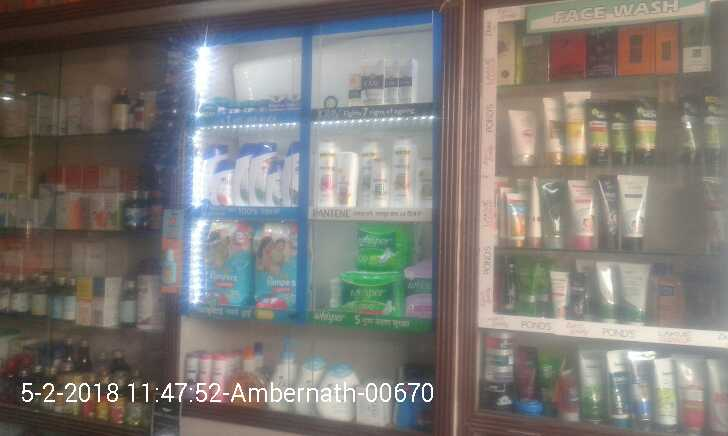beauty: (202, 137, 300, 207), (384, 56, 421, 108), (330, 143, 357, 205), (312, 140, 335, 207), (388, 147, 413, 207), (366, 160, 391, 204), (362, 60, 382, 103)
pharmacy: (198, 216, 256, 308), (252, 213, 296, 303), (330, 266, 399, 313), (348, 219, 409, 262), (191, 92, 300, 111)
